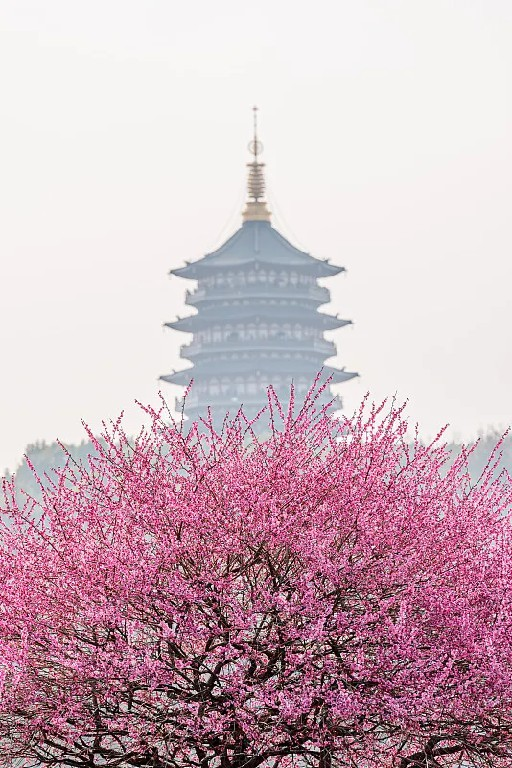Leifeng: (158, 96, 362, 444)
